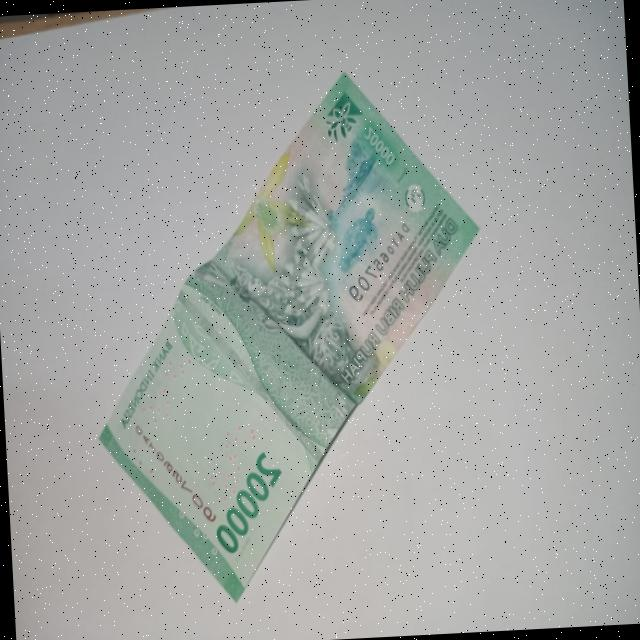20K: (71, 63, 508, 609)
